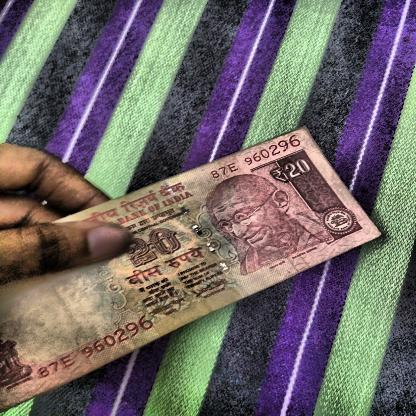Rs20: (263, 155, 321, 189)
